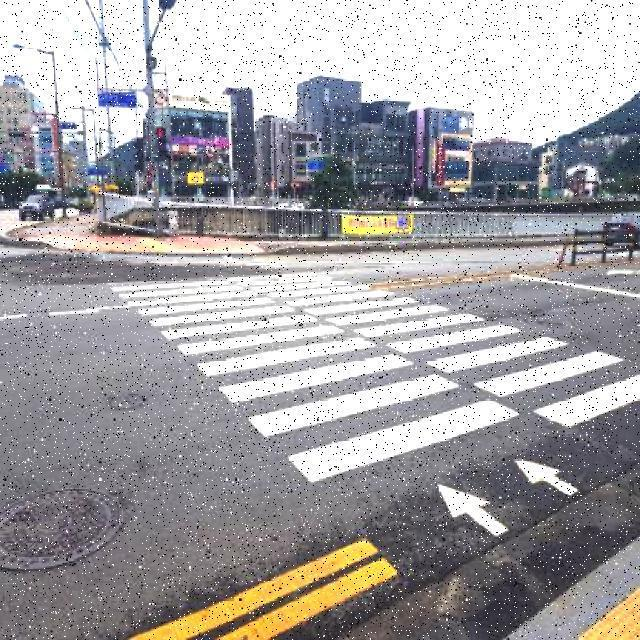Pedestrian crosswalk: (91, 250, 640, 496)
